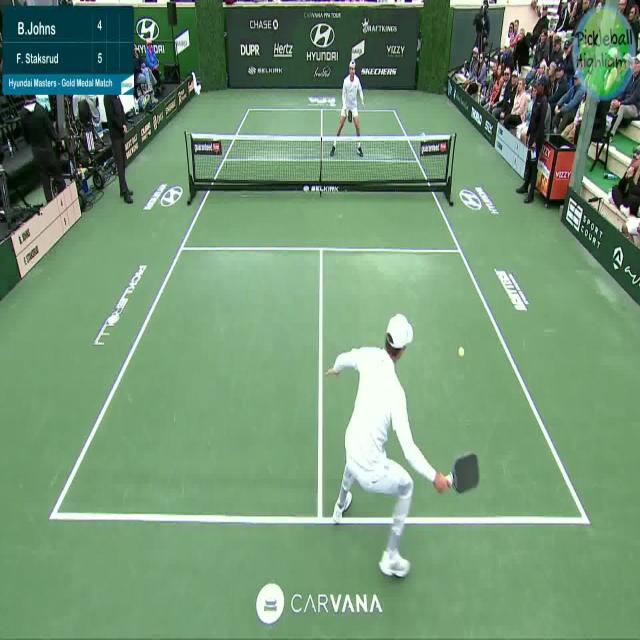ball: (457, 344, 465, 359)
